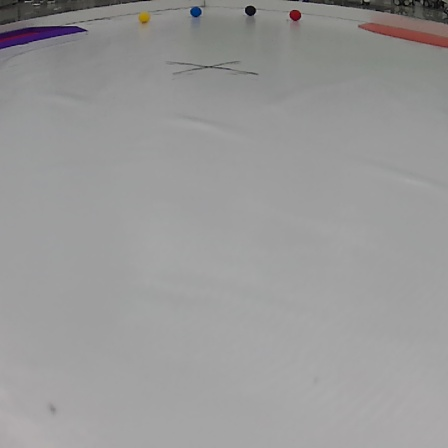black: (243, 3, 258, 20)
blue: (188, 4, 204, 18)
red: (286, 9, 306, 22)
red_aim: (0, 18, 84, 51)
red_base: (355, 20, 448, 50)
yellow: (136, 9, 154, 24)
